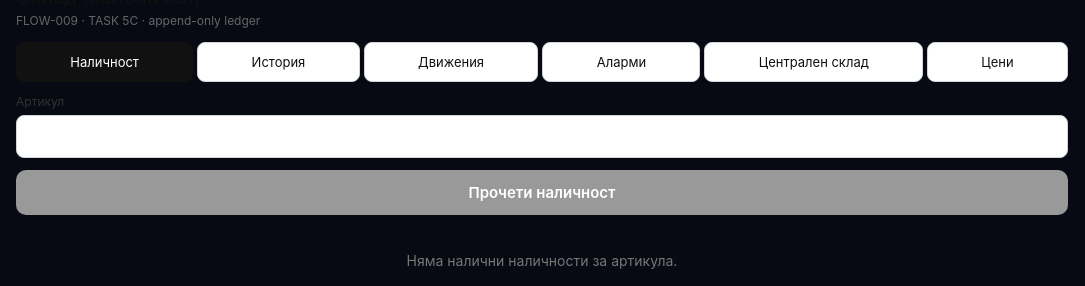
F-3 integrity warnings › the page's alarms tab shows the error on a failed request
Click the button with test id "wh-tab-warnings" at x=621, y=62, box [542,42,700,82]
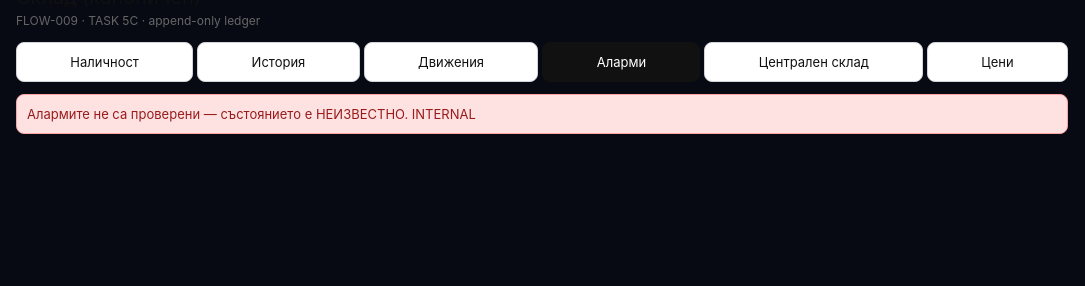
expect the message with test id "wh-warnings-error" shows "INTERNAL": met, box [412,106,476,122]
